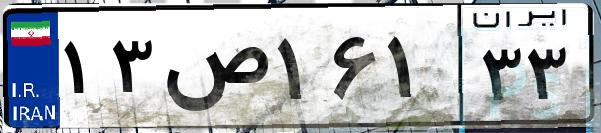1: (270, 28, 330, 110), (385, 28, 445, 110), (57, 26, 110, 100)
3: (475, 38, 525, 113), (525, 38, 570, 115), (110, 28, 158, 98)
6: (330, 28, 385, 110)
ص: (158, 20, 270, 120)
